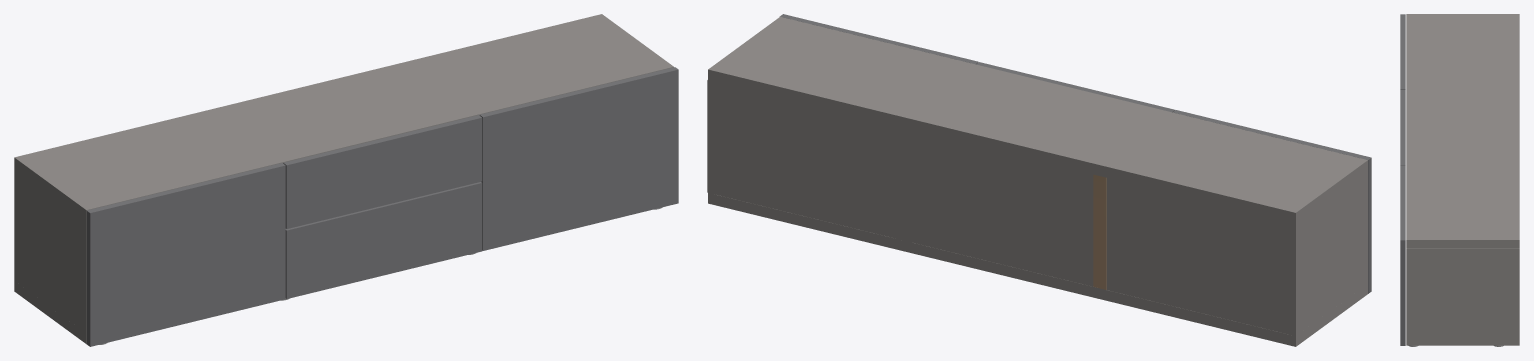
File: cabinet.glb
The picture shows the model from 3 angles, left to right: view 1: azimuth 30°, elevation 25°; view 2: azimuth 150°, elevation 25°; view 3: azimuth 270°, elevation 25°; orthographic projection. The views are drawn at different scales.
Visible parts, largest first — view 1: door (×4), structure (×2); view 2: structure (×3), door (×3); view 3: structure (×2), door (×3).
Boxes of the visible parts, x1,y1,x2,y2 form: door (×4): [86, 67, 678, 346]; structure (×2): [14, 14, 673, 343]; structure (×3): [707, 16, 1367, 346]; door (×3): [779, 14, 1371, 293]; structure (×2): [1406, 14, 1519, 345]; door (×3): [1400, 14, 1405, 345].
Size of the model in its own units: 1.78 by 0.4024 by 0.398.
Materials: 9 (2 with a texture image).
